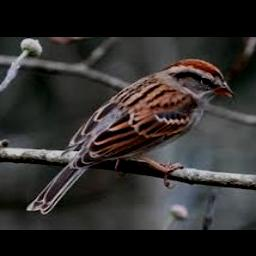Sparrow: (26, 58, 236, 215)
